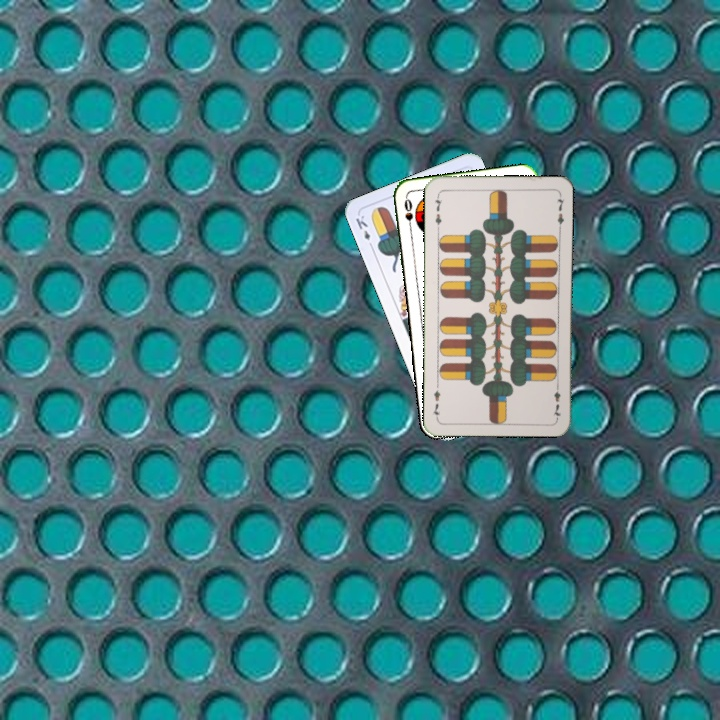E7: (431, 191, 445, 231), (549, 380, 563, 420)
EK: (352, 211, 376, 251)
SO: (400, 194, 415, 235)
